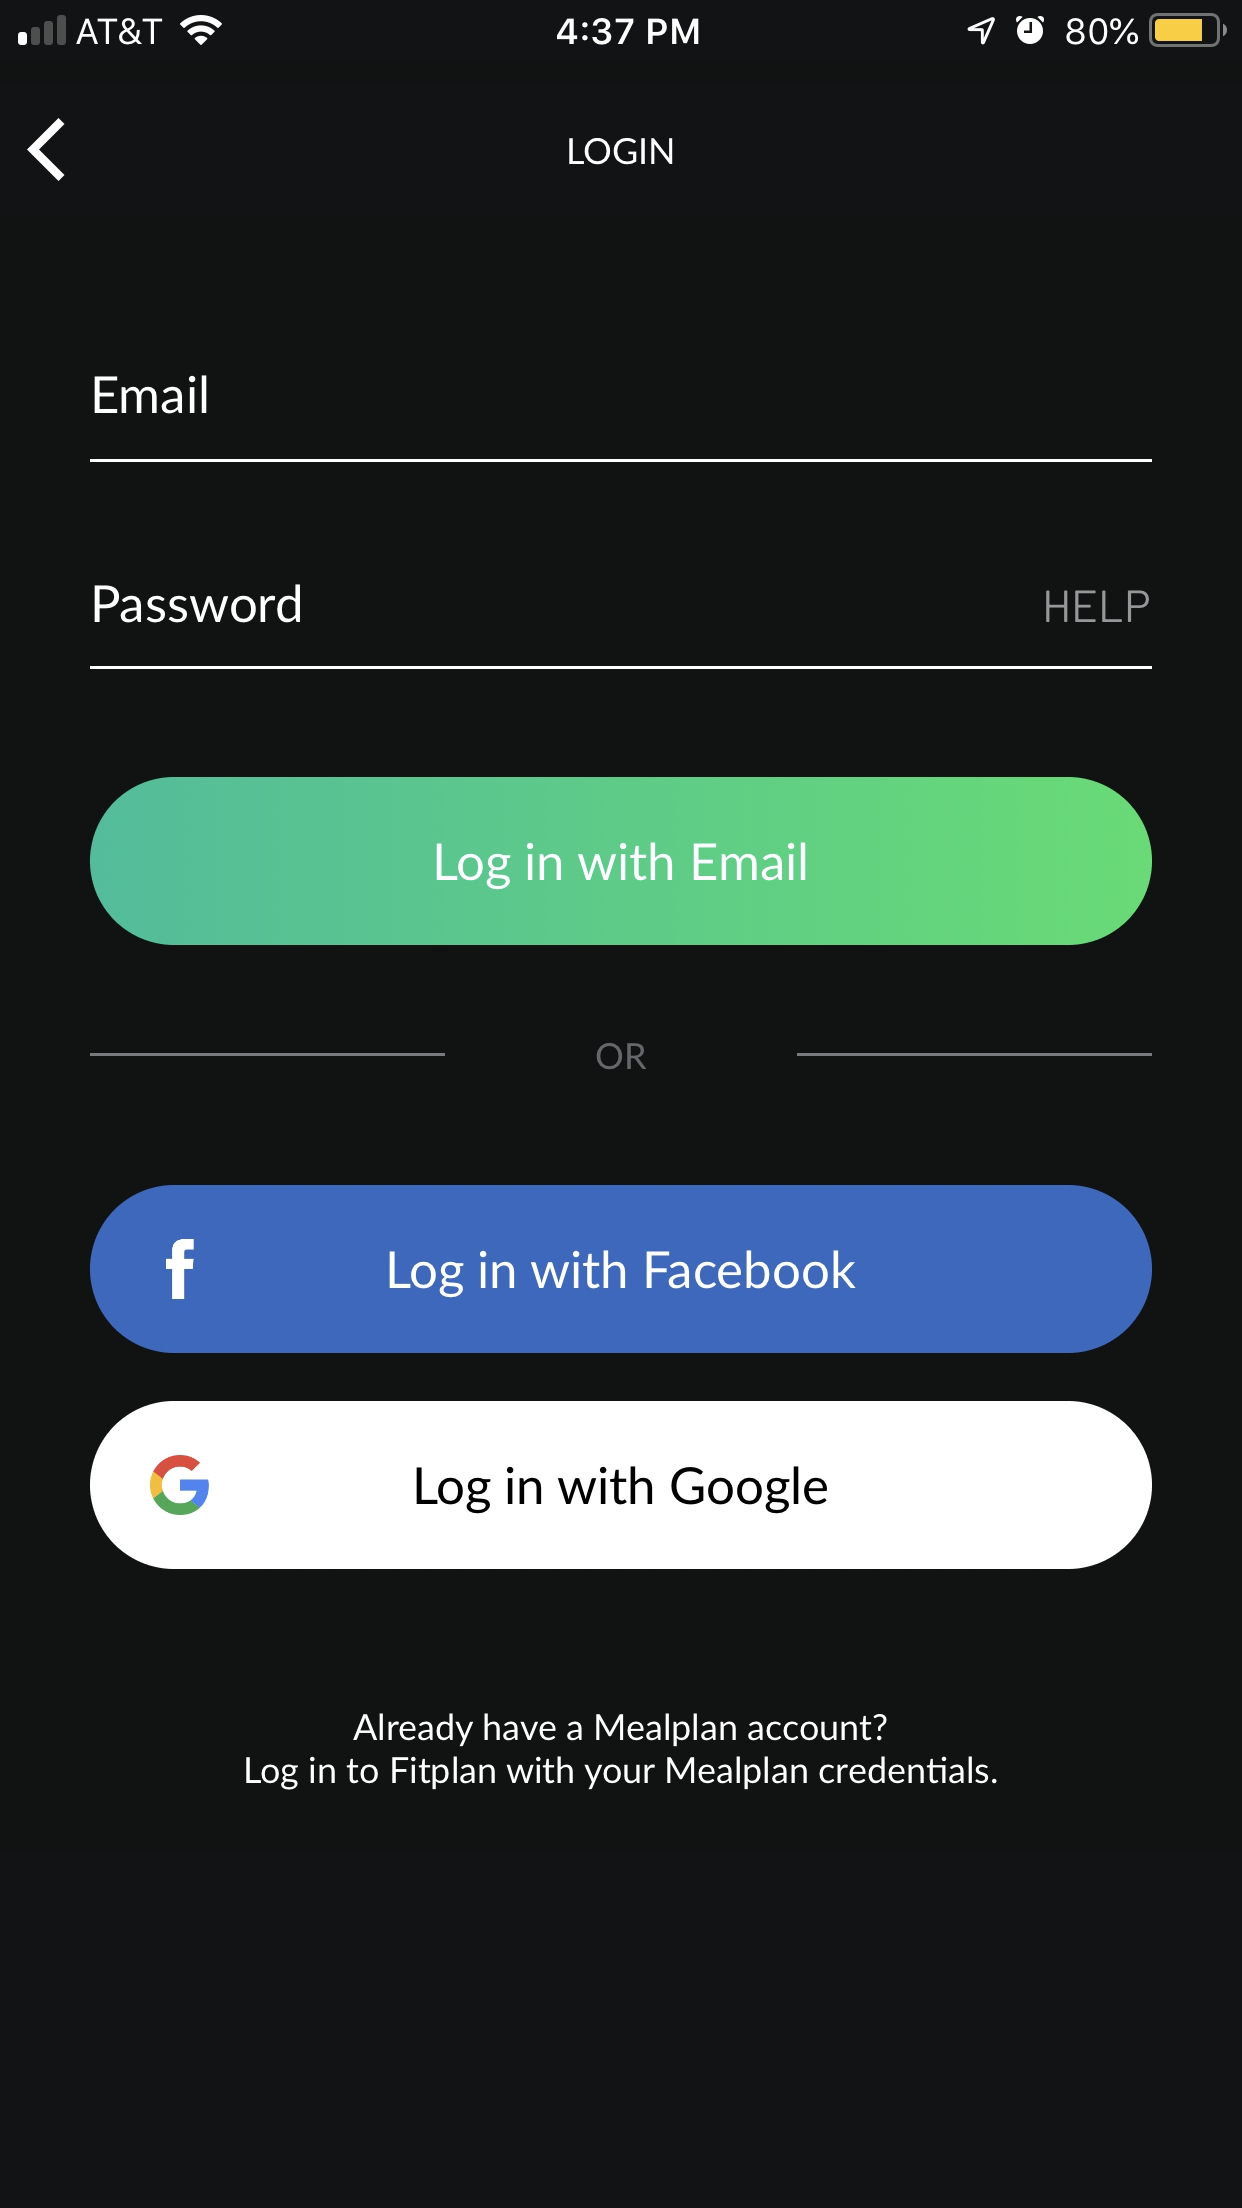EditText: (89, 375, 1153, 464), (89, 584, 1153, 670)
Icon: (27, 118, 67, 183)
Text: (246, 1755, 998, 1791), (353, 1712, 889, 1747), (94, 584, 300, 623), (94, 375, 209, 416), (1045, 588, 1149, 623), (569, 136, 673, 167), (594, 1042, 648, 1071)
TextButton: (89, 1184, 1153, 1354), (89, 776, 1153, 946), (89, 1401, 1153, 1570)
UpperTaskBar: (2, 2, 1242, 50)
